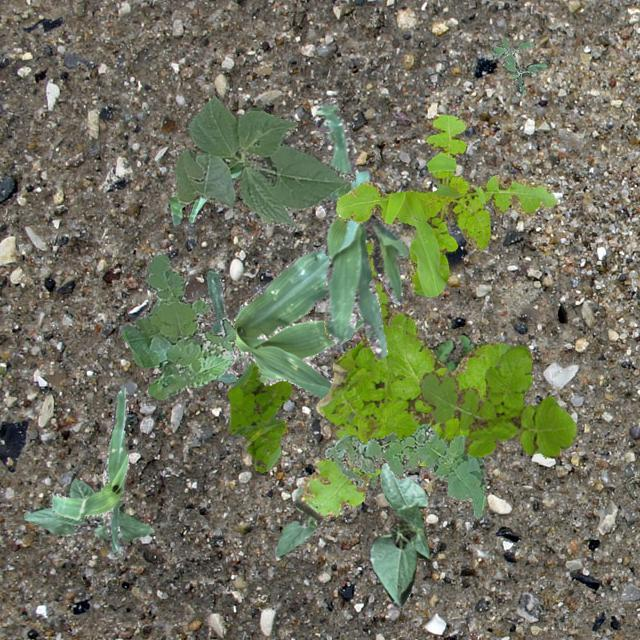crop: (311, 95, 408, 358), (173, 92, 354, 230), (205, 242, 364, 398), (48, 386, 128, 554), (368, 462, 428, 606), (22, 476, 152, 540), (168, 160, 240, 227), (274, 484, 316, 556), (234, 353, 252, 372)
weed: (294, 237, 508, 518), (336, 112, 558, 296), (418, 346, 576, 456), (120, 254, 234, 398), (322, 422, 484, 518), (226, 359, 292, 472), (490, 36, 546, 92), (430, 332, 478, 372), (358, 432, 396, 444), (368, 472, 378, 488)
